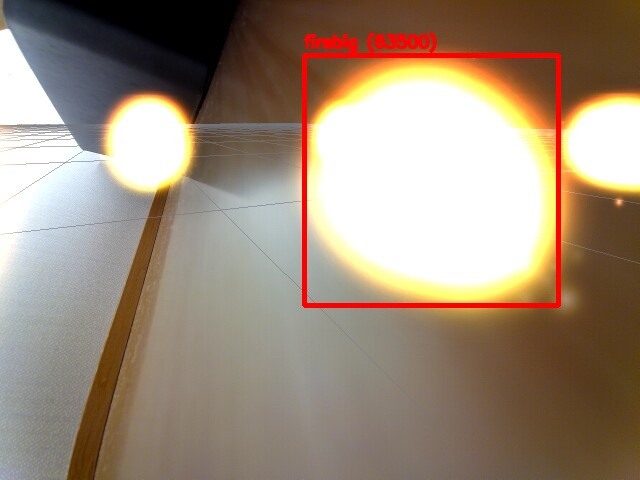firebig: (304, 55, 558, 305)
